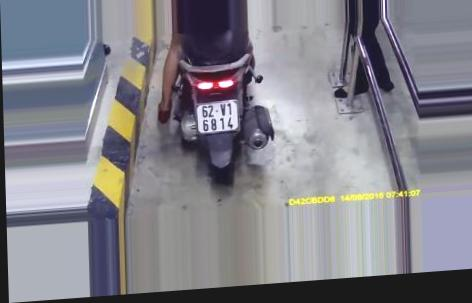License_Plate: (189, 98, 241, 138)
